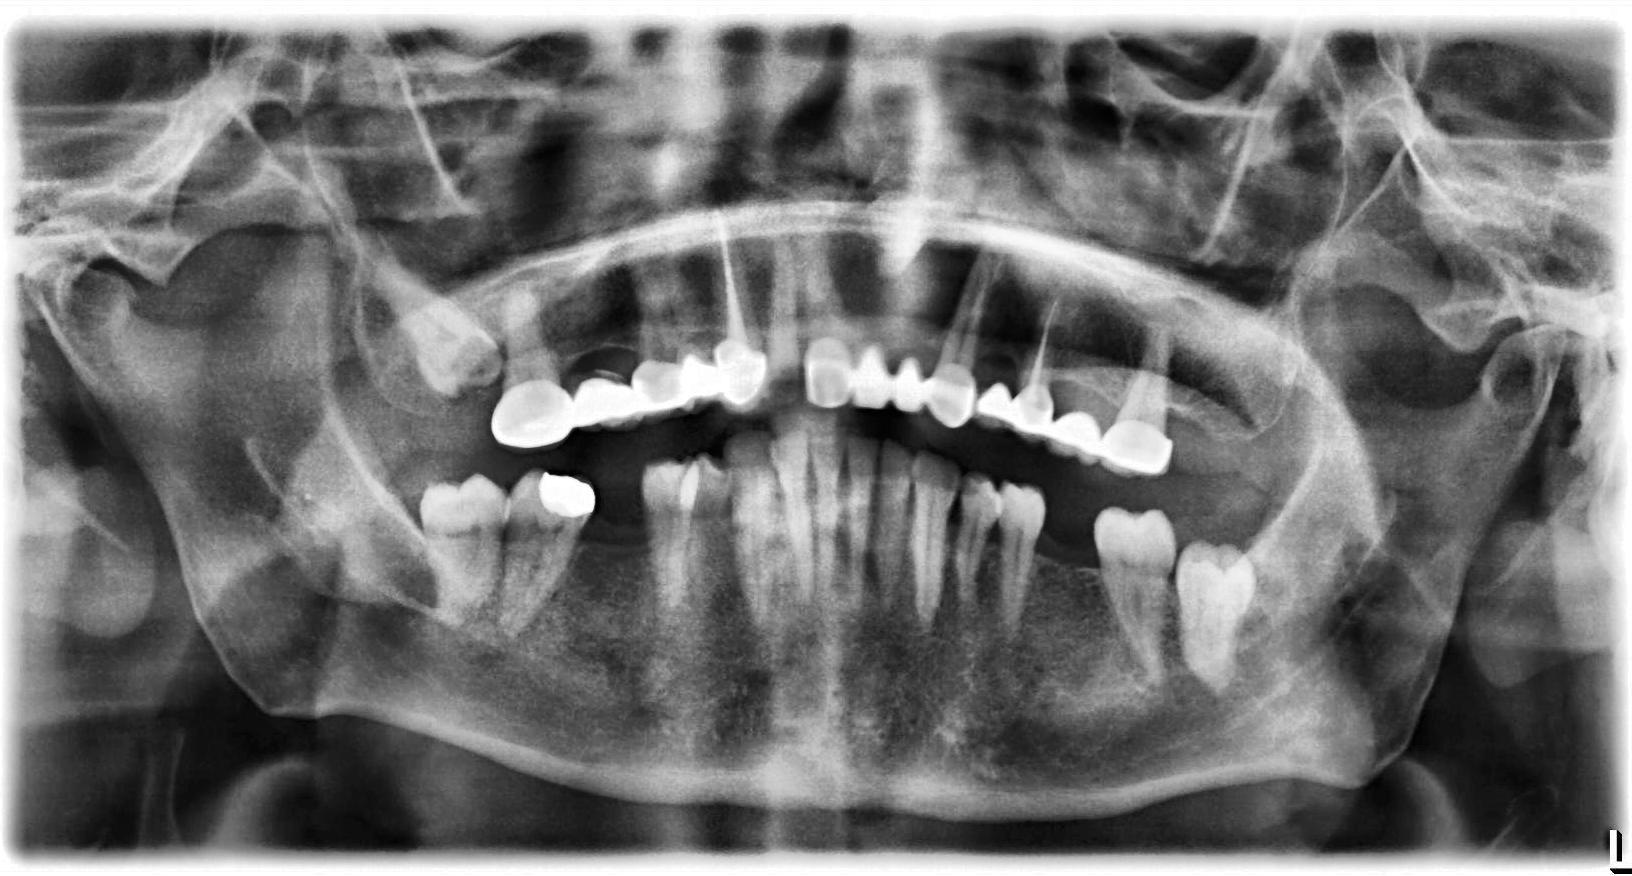dentigeroz: (827, 146, 1004, 347)
